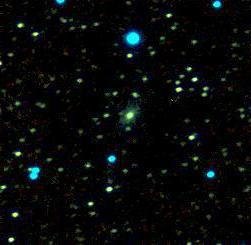star: (15, 153, 45, 183)
